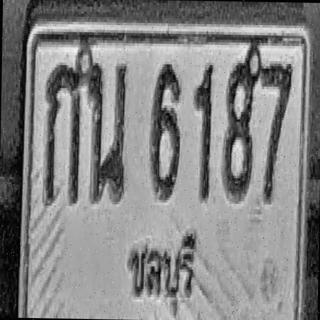A01: (44, 62, 82, 204)
A25: (86, 59, 128, 203)
N01: (192, 61, 214, 202)
N06: (150, 61, 182, 197)
N07: (260, 61, 292, 202)
N08: (223, 55, 258, 199)
P13: (127, 222, 196, 310)
